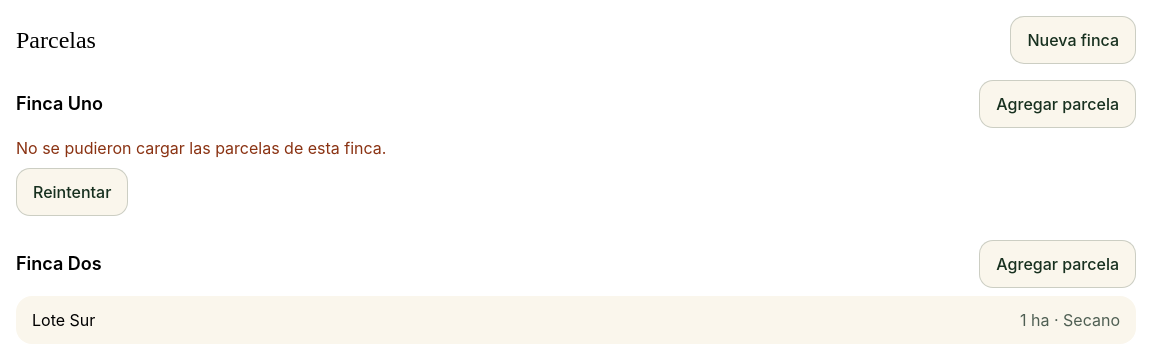
Test case: PlotsScreen › retries only the failed farm's plots when its Reintentar button is clicked
expect the text "No se pudieron cargar las parcelas de esta finca." is shown: met, box top-left (16, 136), bottom-right (386, 160)
expect the text "Lote Sur" is shown: met, box top-left (32, 308), bottom-right (95, 332)
Click the button "Reintentar": {"x": 72, "y": 192} top-left (16, 168), bottom-right (128, 216)
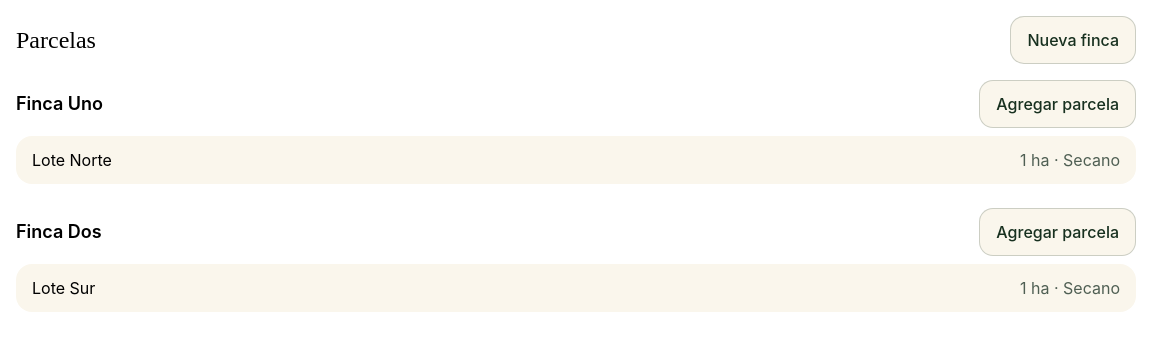
expect the text "Lote Norte" is shown: met, box top-left (32, 148), bottom-right (112, 172)
expect the text "No se pudieron cargar las parcelas de esta finca." is gone: met
